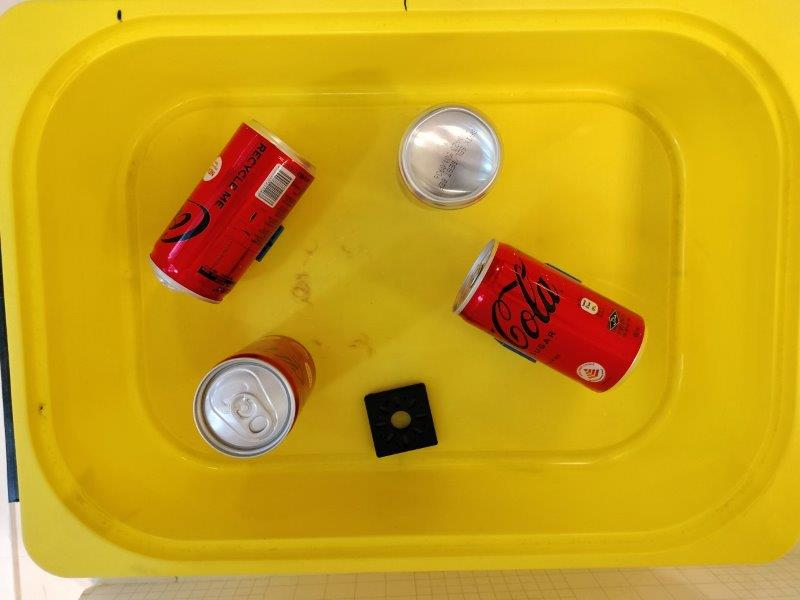Coke: (147, 119, 316, 305), (452, 241, 648, 392), (192, 334, 315, 457), (395, 103, 504, 211)
